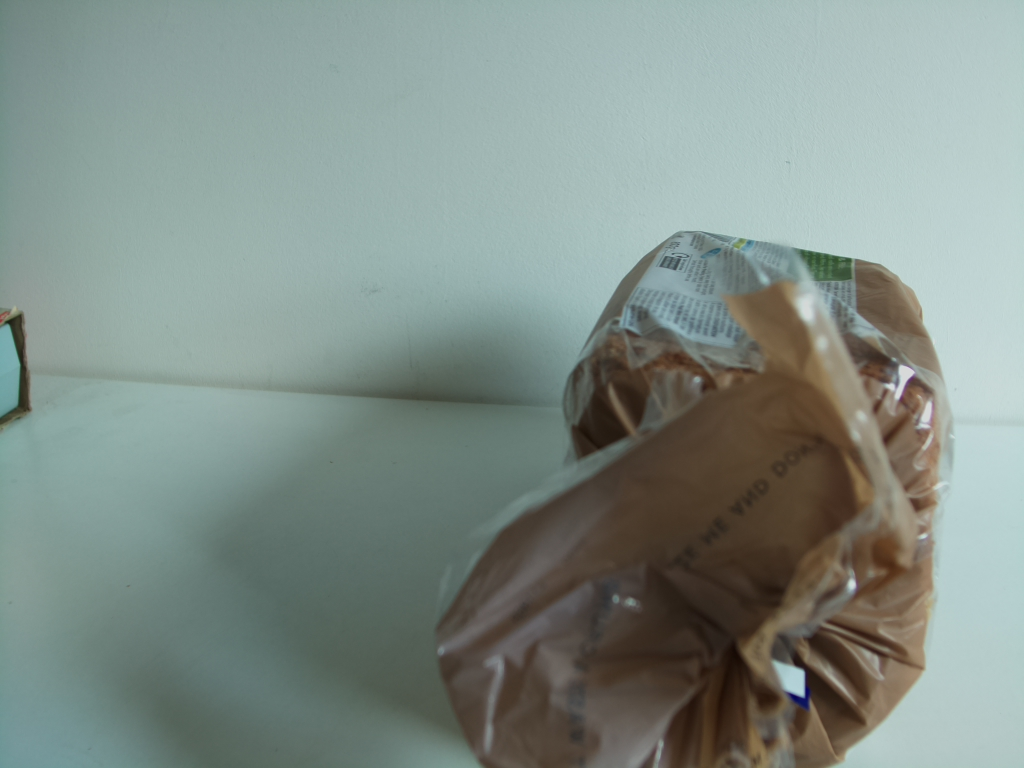bread: (424, 226, 959, 766)
